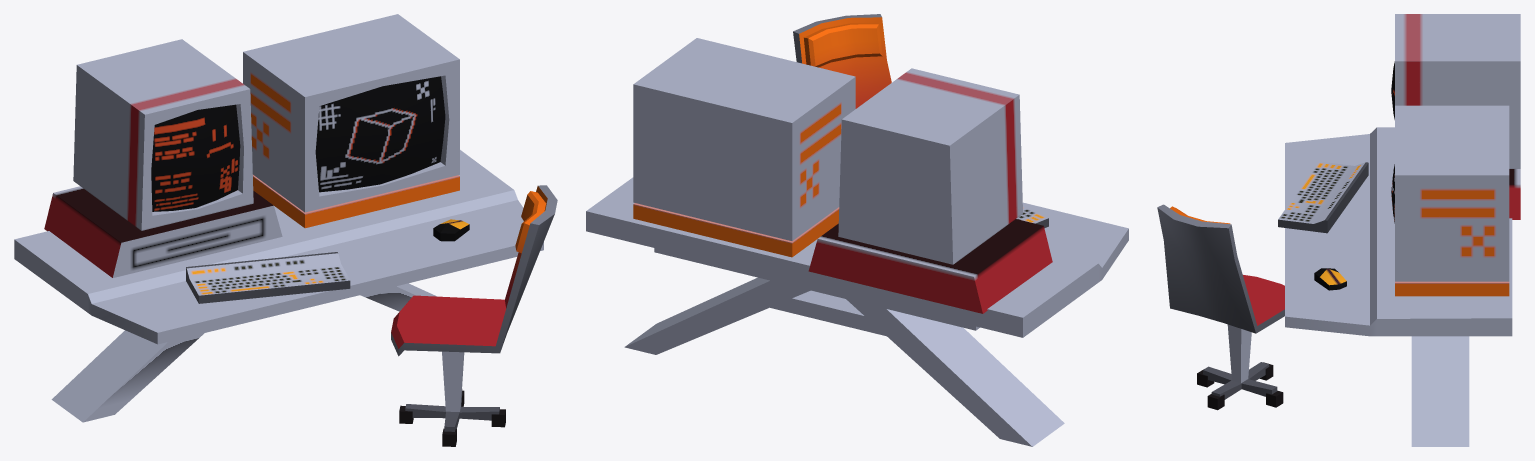
The model's file is WorkPlace.fbx.
3 views of the same model, side by side, from view 1: azimuth 30°, elevation 25°; view 2: azimuth 150°, elevation 25°; view 3: azimuth 270°, elevation 25° (orthographic). The views are drawn at different scales.
Parts seen in each view (by area): view 1: Куб.200; view 2: Куб.200; view 3: Куб.200.
Part boxes in pixels (<box>): Куб.200: <box>14,14,557,446</box>; Куб.200: <box>586,14,1128,446</box>; Куб.200: <box>1157,14,1520,446</box>.
Size of the model in its own units: 260 by 176 by 208.
